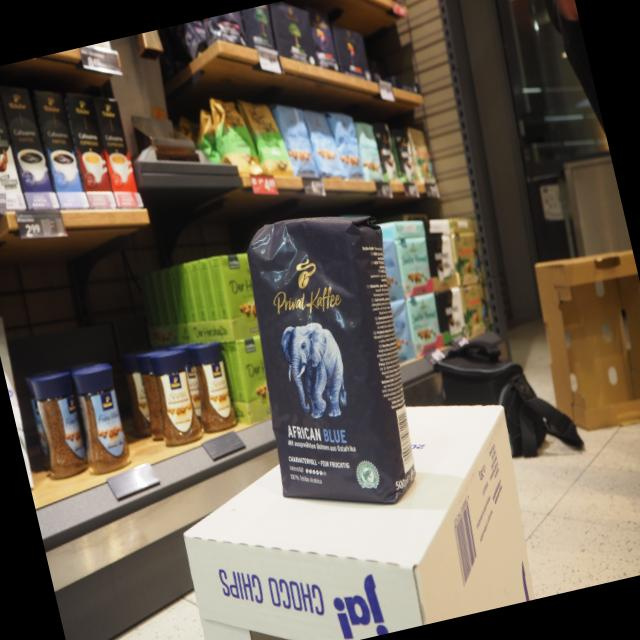AB Bohne: (240, 211, 424, 511)
